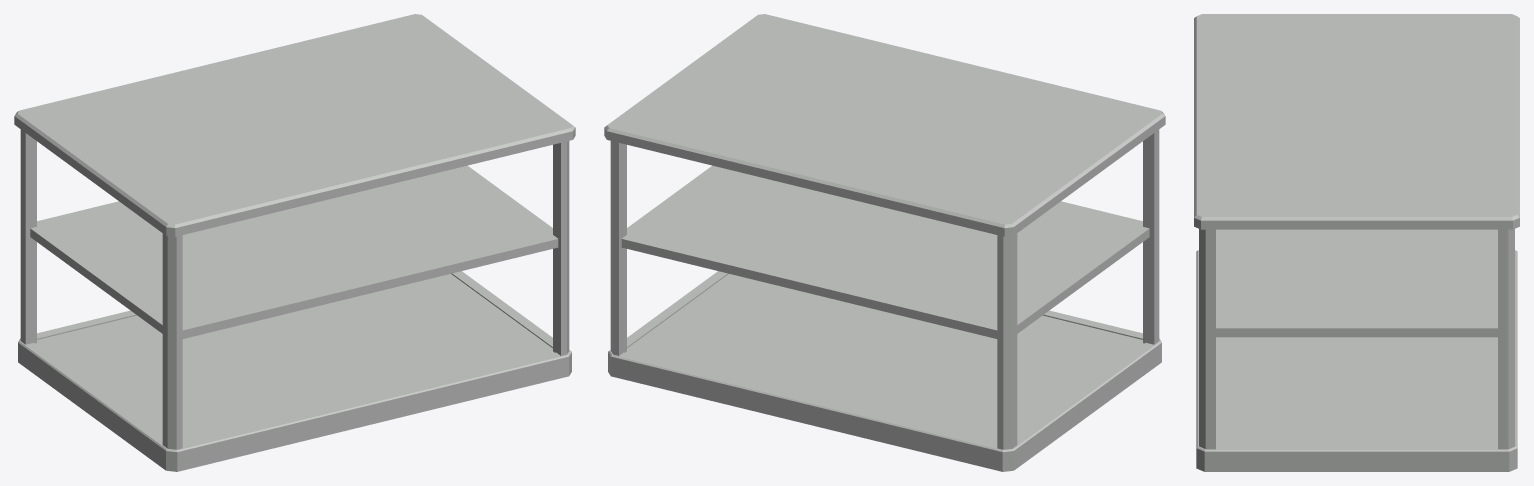
The model's file is SM_Cart_Case_Wide_01.fbx.
3 renders of one model, left to right at view 1: azimuth 30°, elevation 25°; view 2: azimuth 150°, elevation 25°; view 3: azimuth 270°, elevation 25°, orthographic. The views are drawn at different scales.
Parts seen in each view (by area): view 1: SM_Cart_Case_Wide_01; view 2: SM_Cart_Case_Wide_01; view 3: SM_Cart_Case_Wide_01.
Boxes of the visible parts, x1=… form: SM_Cart_Case_Wide_01: x1=14, y1=14, x2=575, y2=471; SM_Cart_Case_Wide_01: x1=604, y1=14, x2=1165, y2=471; SM_Cart_Case_Wide_01: x1=1194, y1=14, x2=1519, y2=471.
Size of the model in its own units: 1.43 by 0.827 by 0.959.
Materials: 1 (1 with a texture image).
